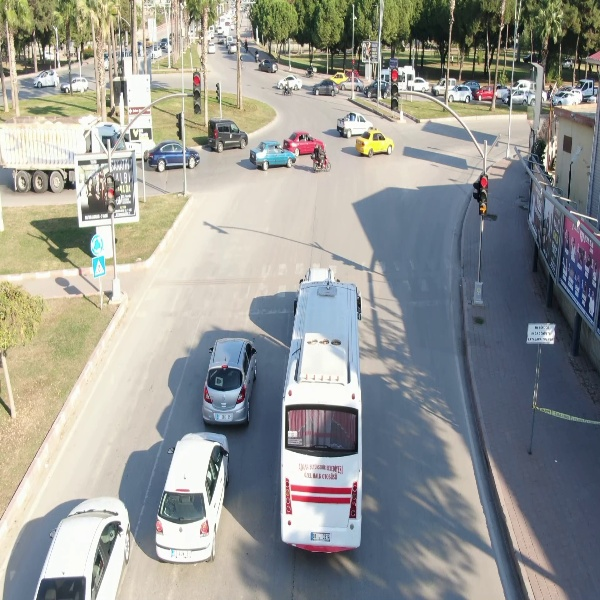car: (155, 425, 234, 565), (200, 337, 258, 427), (146, 137, 203, 172), (249, 140, 297, 173), (207, 117, 249, 154), (354, 126, 398, 159), (312, 77, 342, 99), (34, 67, 61, 91), (62, 74, 89, 97), (448, 84, 474, 104), (257, 56, 281, 73)
